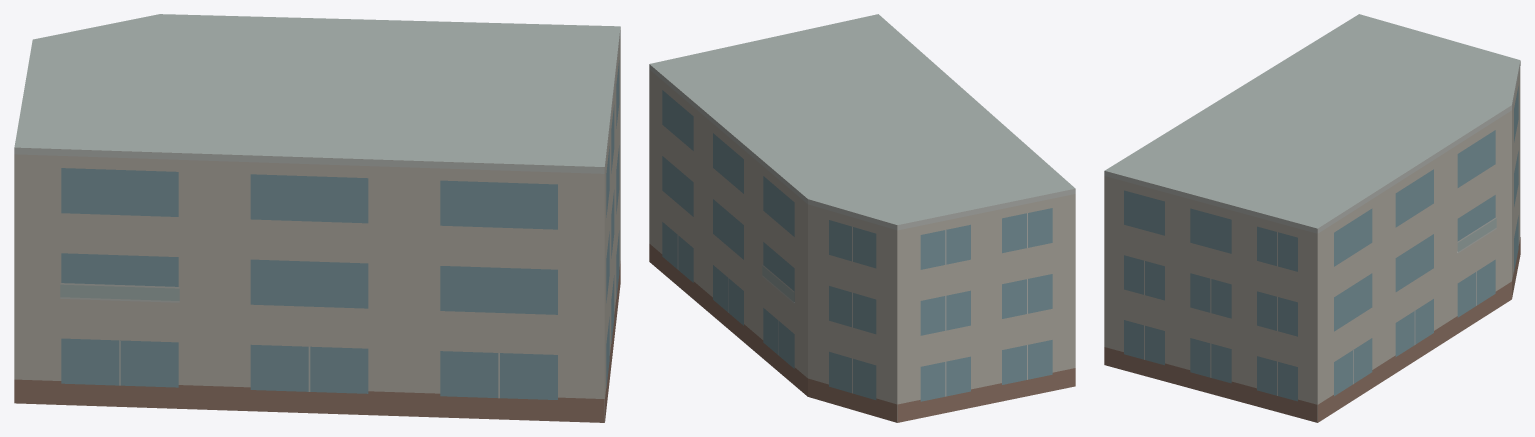
The model's file is survey-upis-32810951.glb.
3 views of the same model, side by side, from view 1: azimuth 30°, elevation 25°; view 2: azimuth 150°, elevation 25°; view 3: azimuth 270°, elevation 25° (orthographic). The views are drawn at different scales.
Parts seen in each view (by area): view 1: survey-upis-32810951.tmp; view 2: survey-upis-32810951.tmp; view 3: survey-upis-32810951.tmp.
Part boxes in pixels (bbox=[...]): survey-upis-32810951.tmp: bbox=[14, 14, 620, 422]; survey-upis-32810951.tmp: bbox=[649, 14, 1075, 422]; survey-upis-32810951.tmp: bbox=[1104, 14, 1520, 422].
Size of the model in its own units: 21.68 by 9.15 by 17.77.
